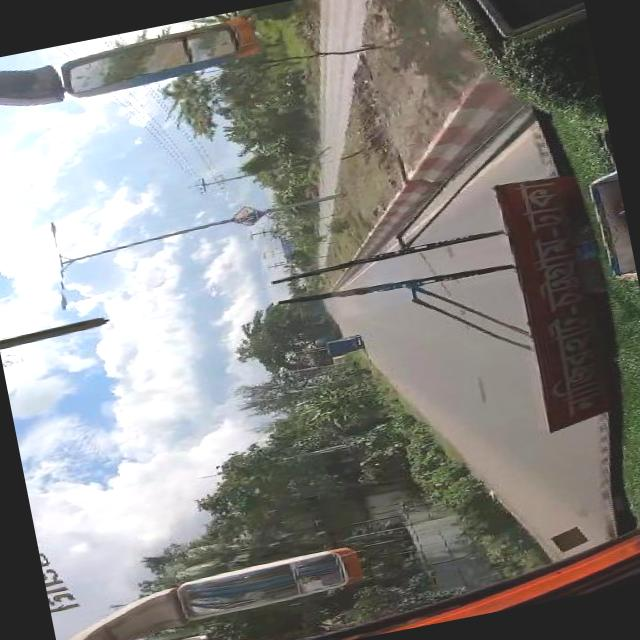truck: (324, 335, 361, 358)
